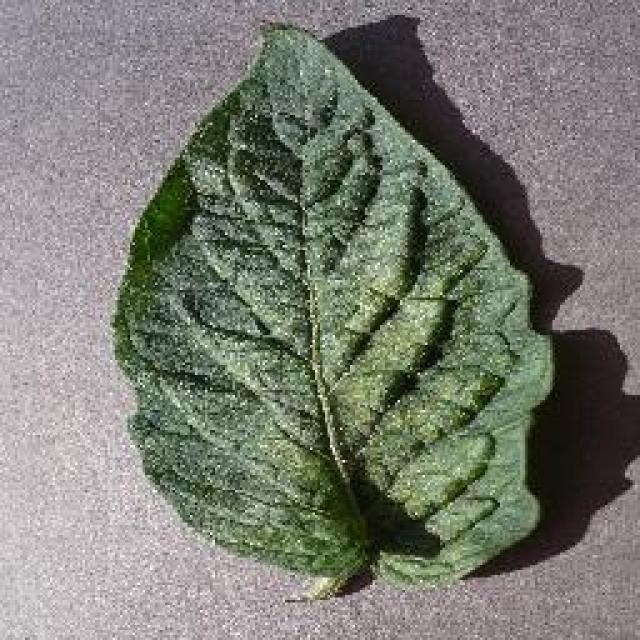Tomato spider mites leaf: (114, 18, 554, 590)
